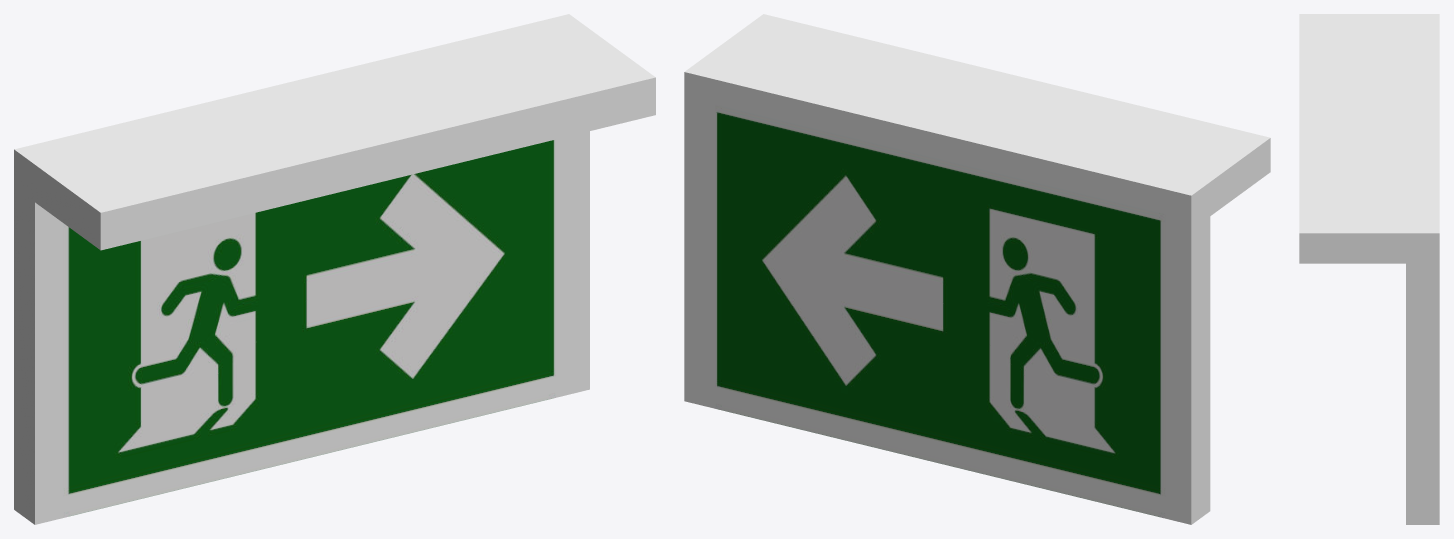
File: exit.fbx
3 views of the same model, side by side, from view 1: azimuth 30°, elevation 25°; view 2: azimuth 150°, elevation 25°; view 3: azimuth 270°, elevation 25° (orthographic). The views are drawn at different scales.
Visible parts, largest first — view 1: Cube; view 2: Cube; view 3: Cube.
Part boxes in pixels (x1,y1,x2,y2): Cube: (14, 14, 655, 524); Cube: (684, 14, 1270, 524); Cube: (1299, 14, 1439, 524).
Bounding box in the file's own units: 44.76 × 27.77 × 12.11.
1 material, 1 textured.
